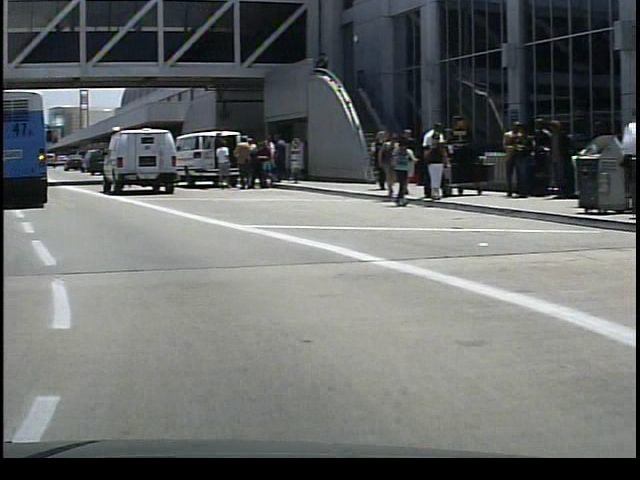person: (568, 101, 638, 213), (420, 121, 451, 202), (418, 130, 445, 203), (227, 136, 256, 192), (268, 132, 289, 183), (210, 136, 229, 192)
